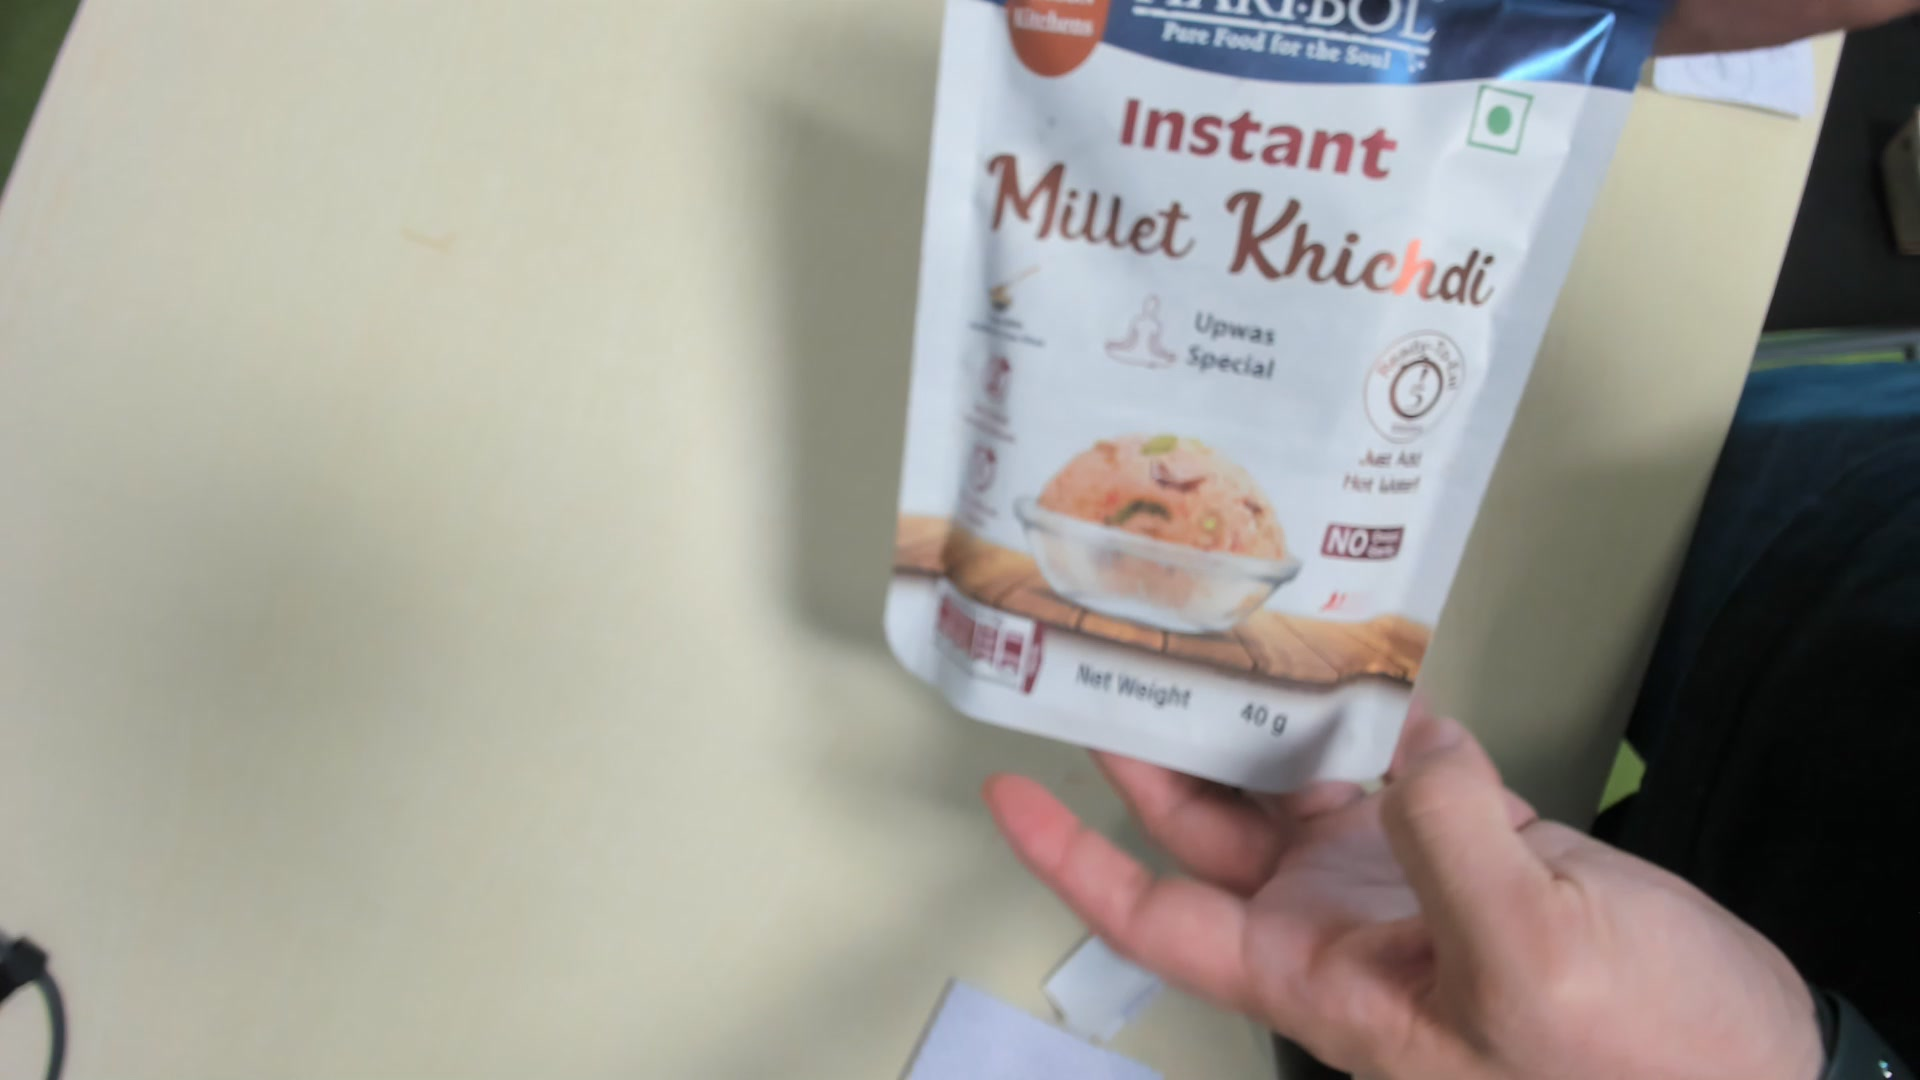InstantMeals_0-99g_NonHalal_NonHealthy: (887, 1, 1656, 804)
